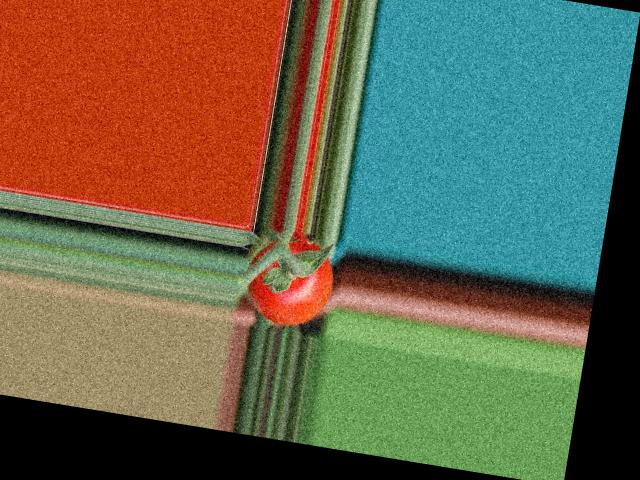tomato: (240, 226, 340, 331)
